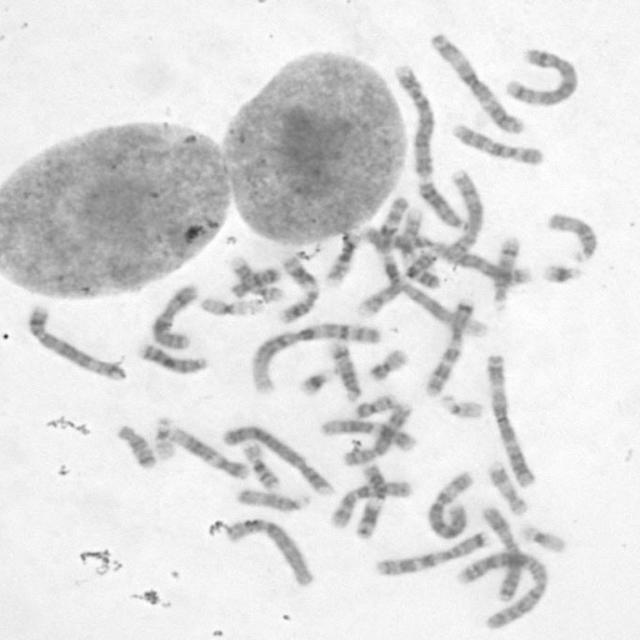A1: (380, 196, 492, 340), (250, 322, 382, 397)
A2: (363, 227, 534, 286), (458, 550, 549, 631)
A3: (428, 31, 525, 135), (486, 352, 536, 488)
B4: (221, 424, 336, 494), (394, 63, 436, 178)
B5: (26, 302, 130, 382), (503, 50, 580, 107)
C10: (449, 122, 544, 167), (331, 480, 412, 530)
C11: (279, 252, 321, 324), (352, 464, 388, 539)
C12: (172, 426, 248, 480), (320, 418, 418, 453)
C6: (224, 518, 316, 587), (427, 471, 476, 542)
C7: (372, 530, 488, 579), (425, 299, 475, 396)
C8: (342, 404, 412, 468), (446, 170, 482, 262)
C9: (356, 252, 436, 319), (399, 207, 444, 289)
D13: (416, 181, 470, 231), (140, 343, 208, 376)
D14: (491, 235, 522, 312), (329, 343, 361, 401)
D15: (546, 212, 599, 264), (238, 488, 314, 514)
E16: (325, 230, 362, 286), (240, 443, 281, 490)
E17: (230, 256, 284, 301), (486, 462, 530, 517)
E18: (116, 423, 156, 470), (229, 267, 282, 299)
F19: (196, 296, 264, 318), (519, 524, 567, 553)
F20: (369, 348, 411, 380), (355, 394, 399, 419)
G21: (296, 368, 334, 398), (540, 264, 584, 285)
G22: (439, 392, 485, 418), (152, 416, 175, 461)
X: (481, 505, 524, 604), (149, 284, 200, 349)
